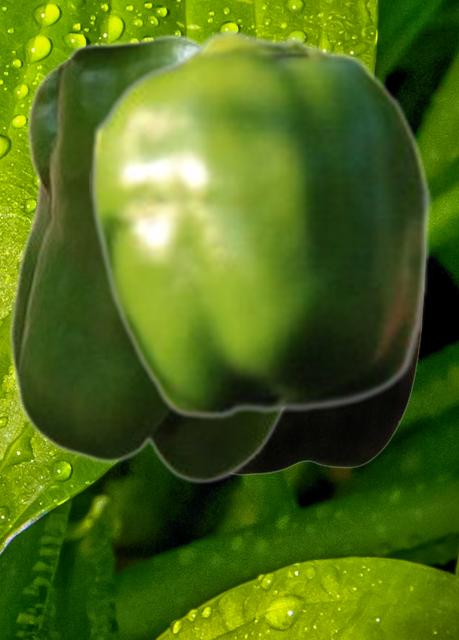bell_pepper: (89, 28, 431, 419), (8, 33, 285, 483), (237, 331, 423, 474)
